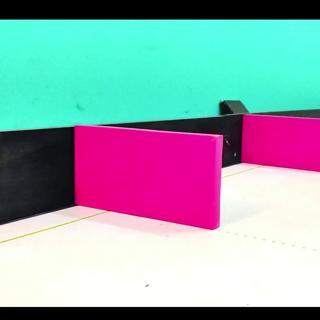xparking: (81, 139, 214, 227), (248, 121, 318, 171)
